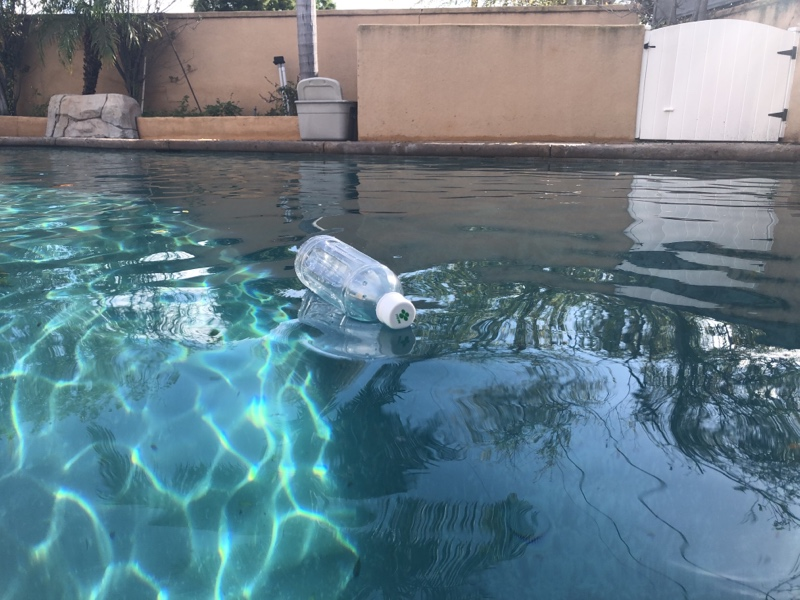Plastic Bottle: (291, 233, 423, 333)
